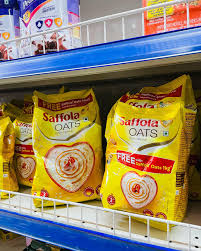saffola: (99, 69, 198, 220)
